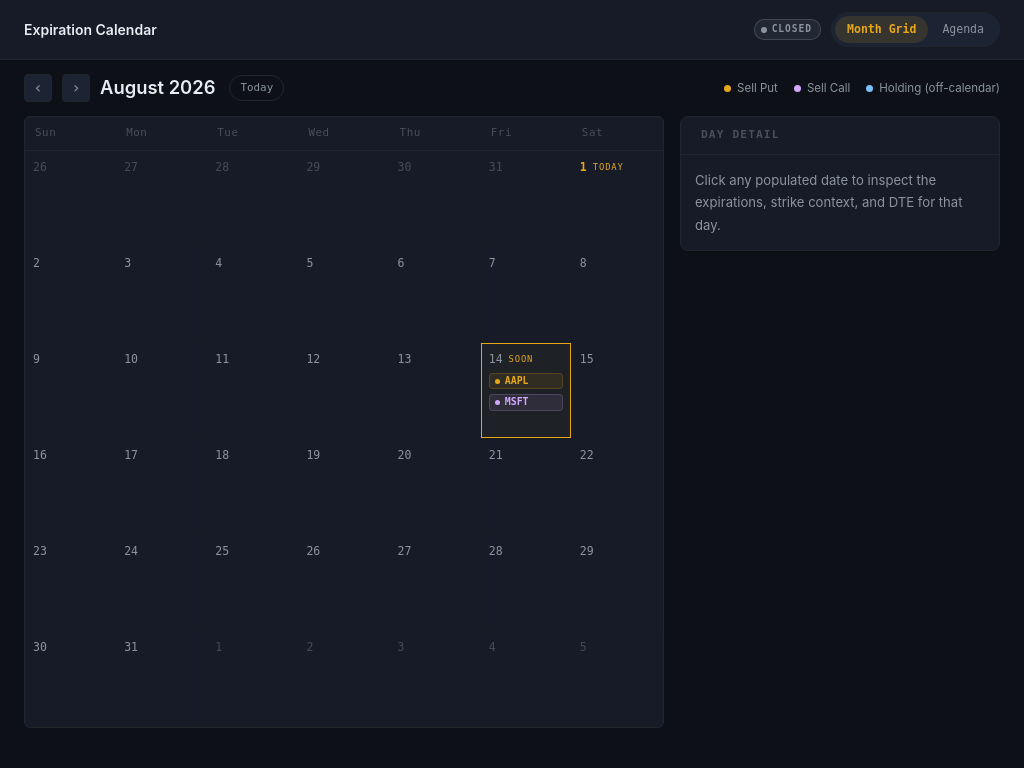
Test case: CalendarPage › switches to the Agenda layout when the toggle is clicked
Click the button "Agenda" at [963, 30], box [930, 16, 996, 43]
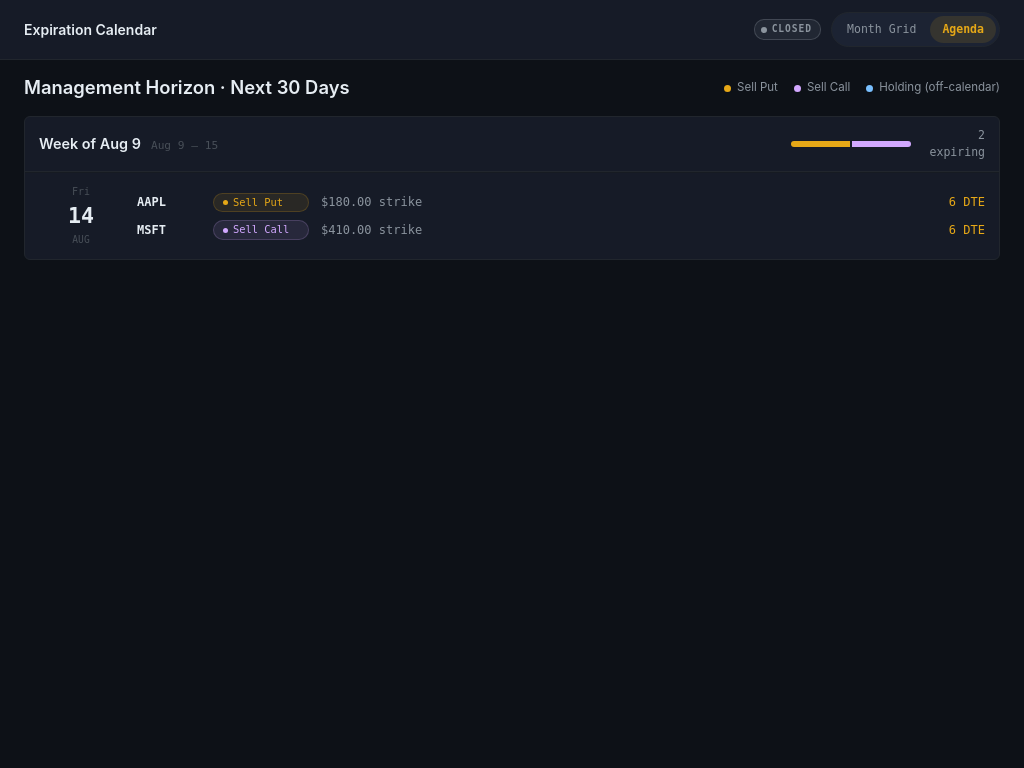
Expected: the element with test id "day-cell-2026-08-14" is gone
Expected: the element with test id "agenda-week-2026-08-09" is shown, [24, 116, 1000, 260]
